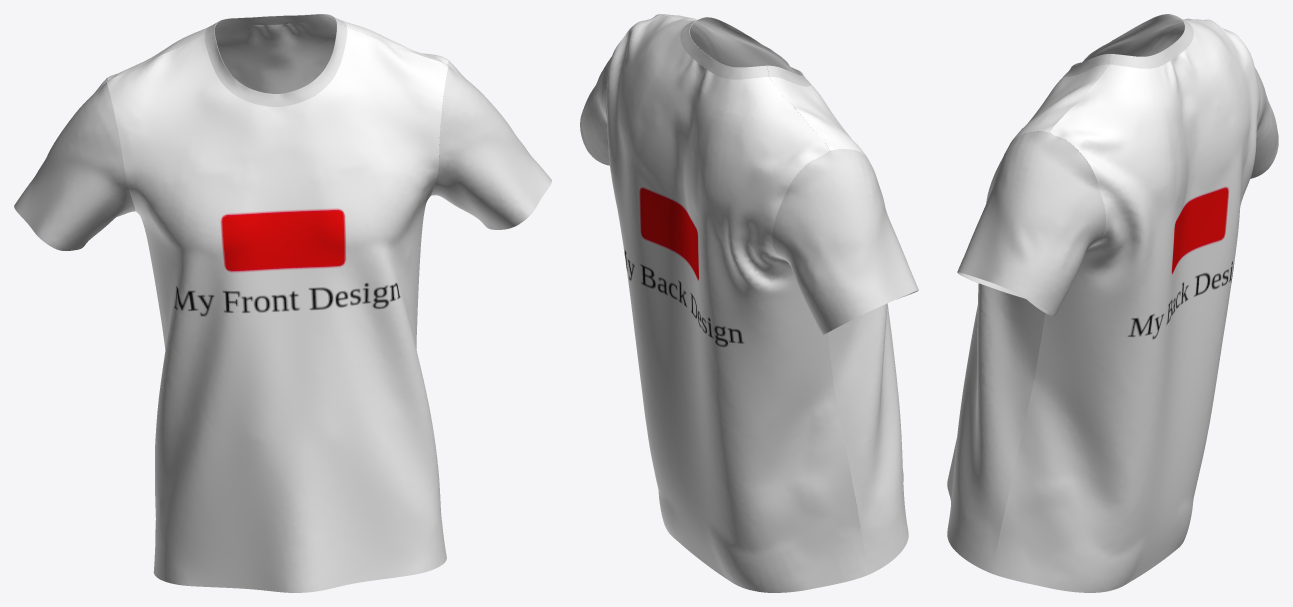
The model's file is t_shirt_mod.glb.
3 renders of one model, left to right at view 1: azimuth 30°, elevation 25°; view 2: azimuth 150°, elevation 25°; view 3: azimuth 270°, elevation 25°, orthographic.
Visible parts, largest first — view 1: Body_Front_Node_4, Sleeves_Node_6, Sleeves_Node_7, Body_Back_Node_5, Ribbing_Node_3, Ribbing_Node_2; view 2: Body_Back_Node_5, Body_Front_Node_4, Sleeves_Node_7, Sleeves_Node_6, Ribbing_Node_2, Ribbing_Node_3; view 3: Body_Back_Node_5, Body_Front_Node_4, Sleeves_Node_6, Sleeves_Node_7, Ribbing_Node_2, Ribbing_Node_3.
Part boxes in pixels (bbox=[...]): Body_Front_Node_4: bbox=[107, 27, 448, 592]; Sleeves_Node_6: bbox=[431, 60, 551, 229]; Sleeves_Node_7: bbox=[14, 78, 135, 250]; Body_Back_Node_5: bbox=[107, 19, 448, 267]; Ribbing_Node_3: bbox=[204, 22, 347, 106]; Ribbing_Node_2: bbox=[205, 14, 346, 33]; Body_Back_Node_5: bbox=[603, 14, 869, 592]; Body_Front_Node_4: bbox=[660, 14, 908, 573]; Sleeves_Node_7: bbox=[772, 149, 918, 334]; Sleeves_Node_6: bbox=[580, 18, 714, 165]; Ribbing_Node_2: bbox=[680, 17, 768, 79]; Ribbing_Node_3: bbox=[697, 17, 810, 86]; Body_Back_Node_5: bbox=[991, 18, 1262, 592]; Body_Front_Node_4: bbox=[947, 18, 1209, 572]; Sleeves_Node_6: bbox=[957, 131, 1105, 316]; Sleeves_Node_7: bbox=[1155, 24, 1278, 178]; Ribbing_Node_2: bbox=[1109, 14, 1193, 68]; Ribbing_Node_3: bbox=[1064, 14, 1175, 76].
Bounding box in the file's own units: 0.5917 × 0.7103 × 0.4072.
Materials: 8 (2 with a texture image).
